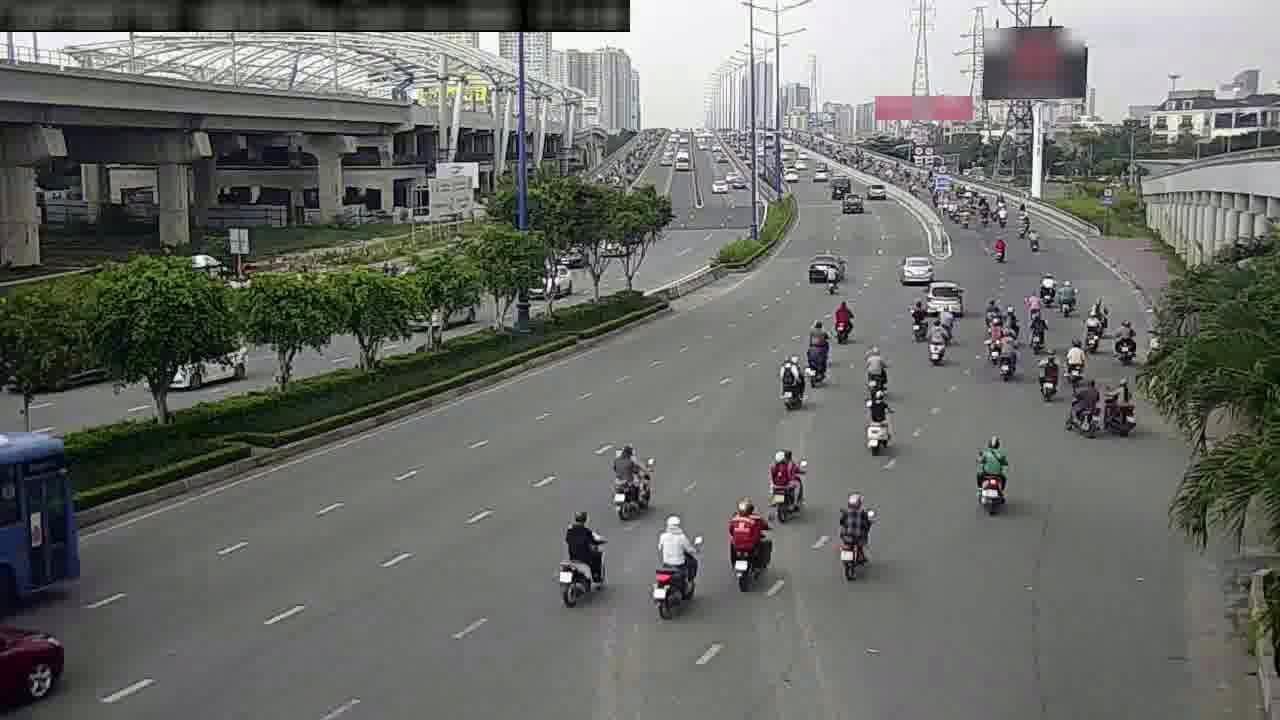container: (1, 595, 69, 716), (921, 276, 968, 315), (895, 247, 938, 286), (804, 248, 843, 286)
motorbike: (552, 505, 611, 604), (645, 515, 701, 613), (721, 497, 774, 587), (826, 490, 876, 579), (605, 435, 656, 519), (968, 435, 1017, 514), (763, 444, 807, 520), (1061, 371, 1107, 437), (1092, 372, 1139, 436), (856, 389, 896, 457), (773, 350, 809, 413), (800, 328, 832, 383), (858, 348, 892, 398), (1031, 349, 1062, 401), (1108, 317, 1139, 365), (921, 319, 951, 366), (828, 299, 857, 344), (1060, 334, 1088, 378), (1078, 311, 1105, 354), (1024, 311, 1050, 353), (1052, 281, 1079, 320), (998, 334, 1019, 384), (980, 286, 1006, 326), (904, 301, 929, 342), (1032, 270, 1059, 305), (982, 319, 1000, 371), (1001, 297, 1023, 336), (937, 302, 957, 338), (987, 231, 1007, 263), (823, 261, 842, 292), (1023, 222, 1043, 249)
